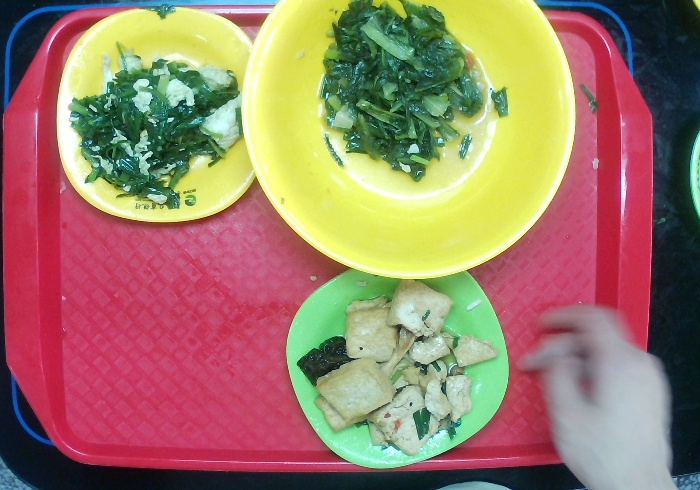YKMZ-Huang_Se_Fang_Die: (55, 3, 256, 226)
YKMZ-Huang_Se_Tang_Wan: (239, 1, 576, 284)
YKMZ-Lv_Se_Fang_Die: (284, 268, 513, 470)
